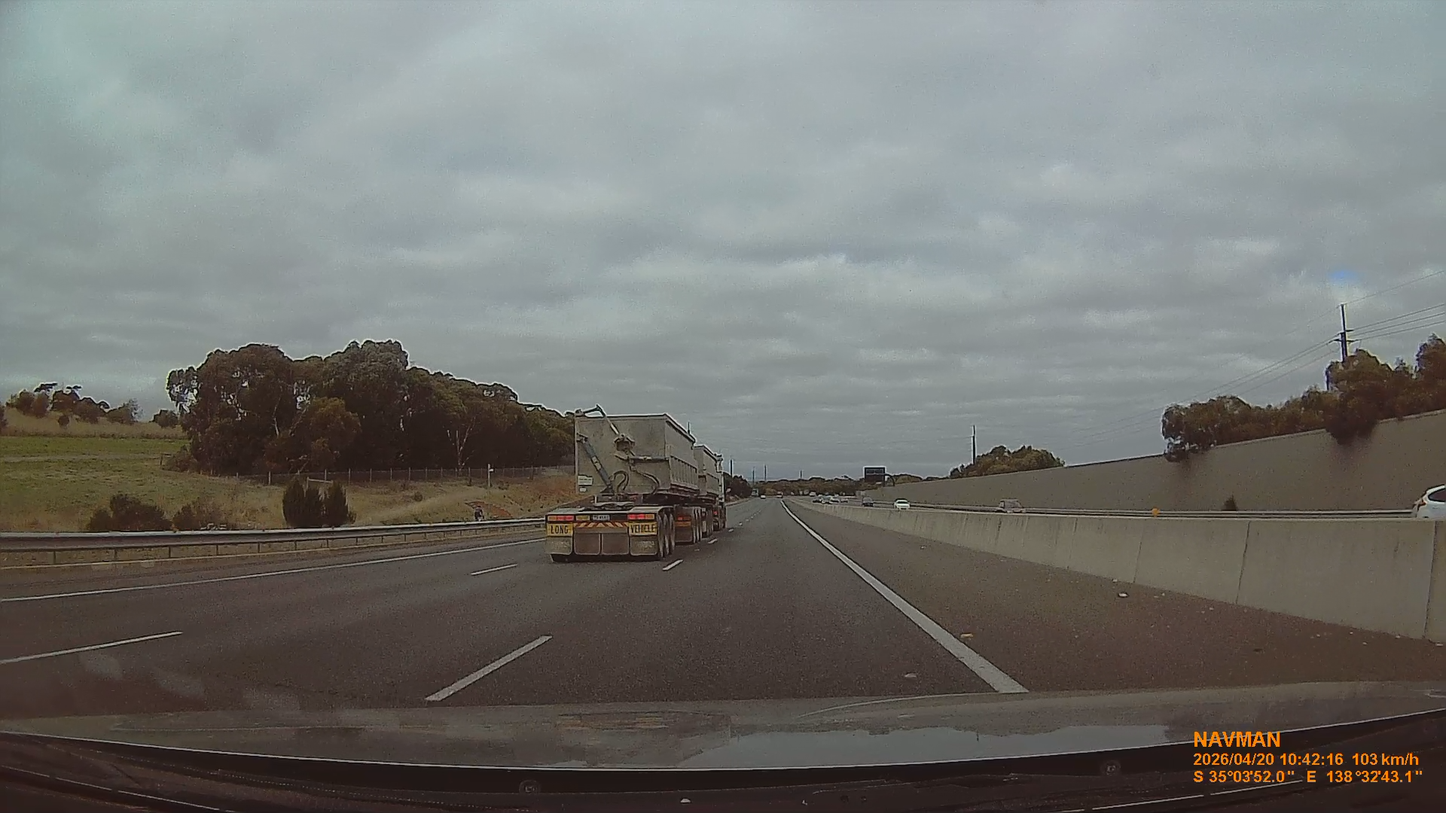fences: (1237, 519, 1445, 644), (244, 461, 573, 486)
road barriers: (816, 507, 1445, 645), (0, 518, 542, 571)
